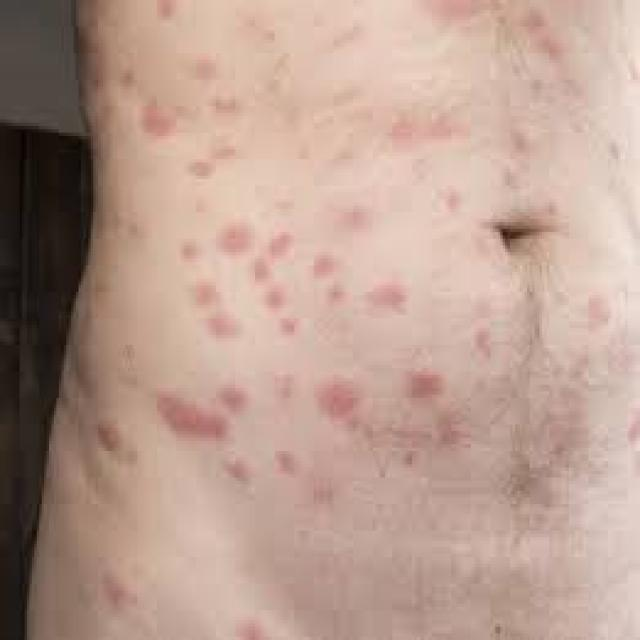kan emici bocekler: (253, 224, 298, 334), (393, 112, 461, 162), (303, 249, 348, 320), (160, 406, 229, 447), (198, 276, 236, 342), (371, 279, 415, 322), (325, 378, 359, 426), (266, 370, 302, 412), (305, 476, 346, 511), (465, 326, 496, 371), (405, 366, 439, 407), (95, 417, 127, 458), (141, 105, 172, 146), (101, 580, 134, 615), (224, 379, 260, 411), (218, 450, 245, 490), (223, 222, 250, 259), (209, 90, 241, 121), (331, 212, 362, 242), (195, 54, 219, 89), (279, 448, 302, 472), (182, 241, 198, 264), (252, 617, 268, 640)
